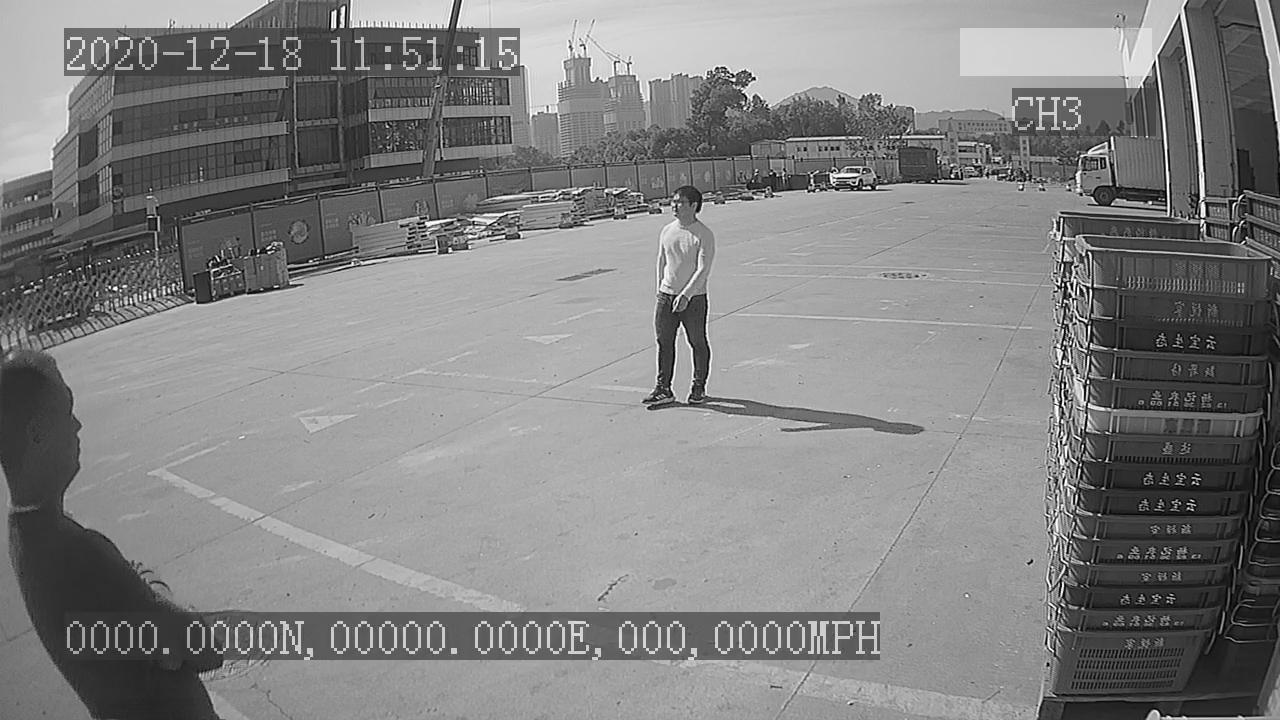person: (636, 181, 720, 406)
